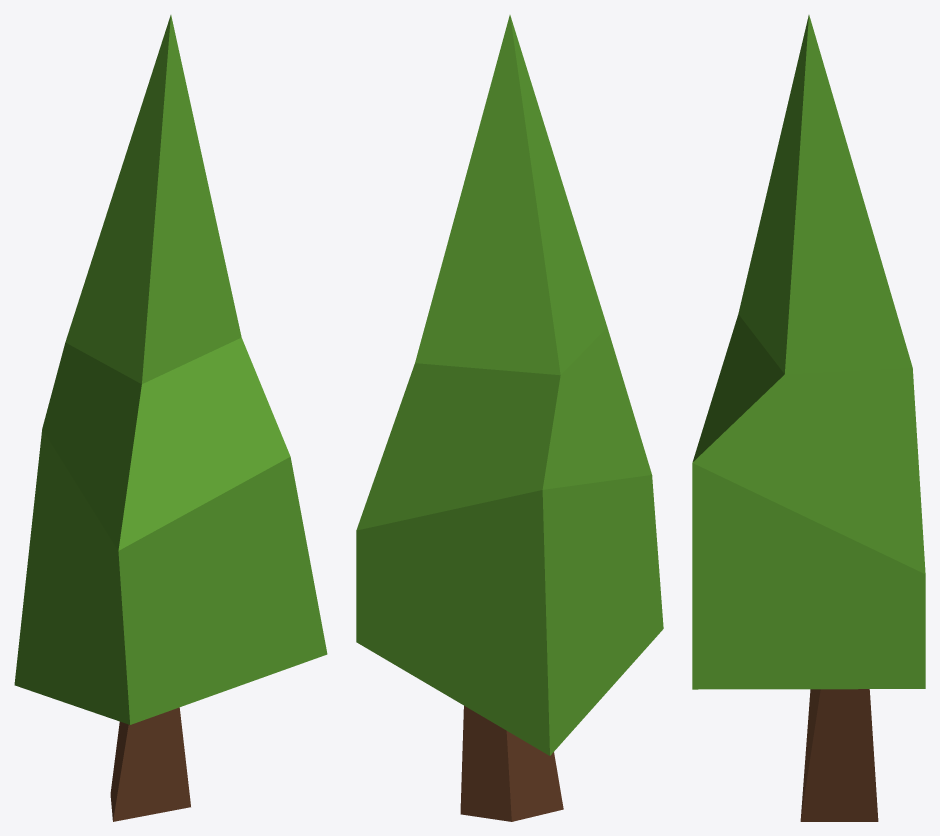
File: Tree 3.fbx
3 views of the same model, side by side, from view 1: azimuth 30°, elevation 25°; view 2: azimuth 150°, elevation 25°; view 3: azimuth 270°, elevation 25° (orthographic). The views are drawn at different scales.
Parts seen in each view (by area): view 1: Tree_Top, Branch; view 2: Tree_Top, Branch; view 3: Tree_Top, Branch.
Part boxes in pixels (x1,y1,x2,y2): Tree_Top: [14, 15, 327, 724]; Branch: [110, 707, 190, 821]; Tree_Top: [356, 15, 663, 755]; Branch: [460, 706, 563, 821]; Tree_Top: [692, 15, 925, 689]; Branch: [800, 689, 878, 821].
Bounding box in the file's own units: 2268 × 8735 × 2303.
